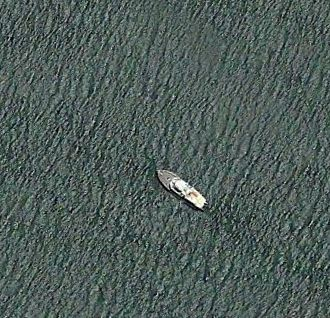boat: (156, 169, 209, 212)
